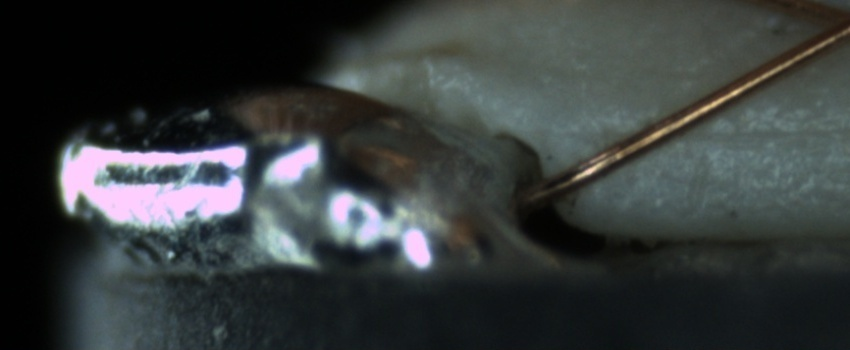CL: (778, 0, 849, 62)
DL: (610, 96, 846, 163)
